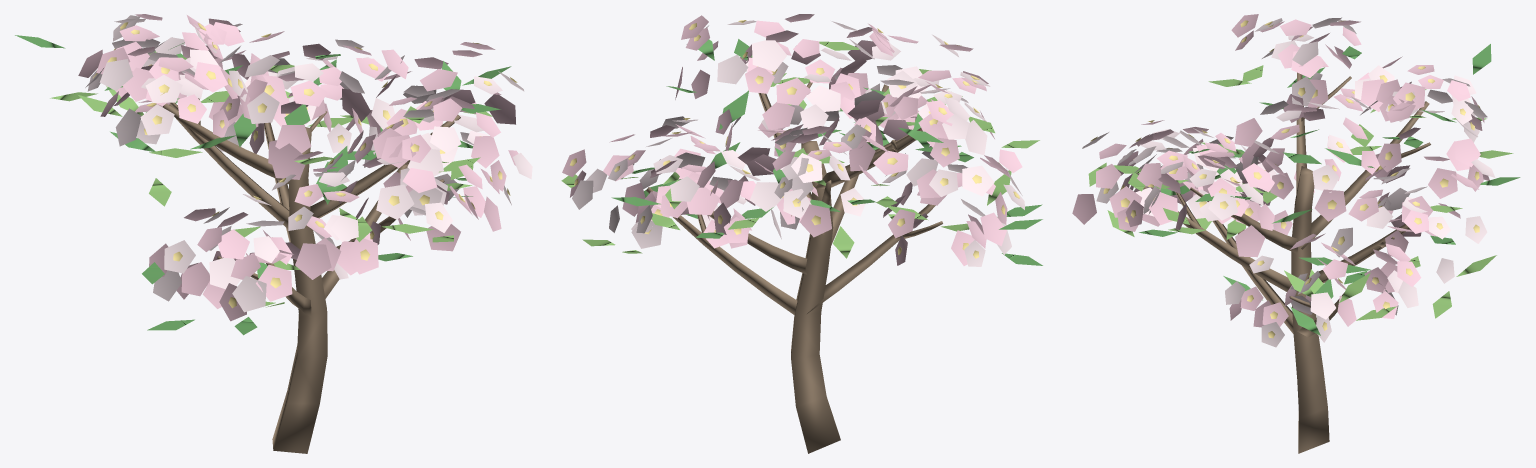
File: SM_PlantBlossomLod2.fbx
3 views of the same model, side by side, from view 1: azimuth 30°, elevation 25°; view 2: azimuth 150°, elevation 25°; view 3: azimuth 270°, elevation 25° (orthographic). The views are drawn at different scales.
Parts seen in each view (by area): view 1: PlantBlossomLod2; view 2: PlantBlossomLod2; view 3: PlantBlossomLod2.
Part boxes in pixels (x1,y1,x2,y2): PlantBlossomLod2: (15, 14, 532, 453); PlantBlossomLod2: (561, 14, 1042, 453); PlantBlossomLod2: (1072, 14, 1520, 453).
Size of the model in its own units: 1.74 by 1.73 by 1.83.
